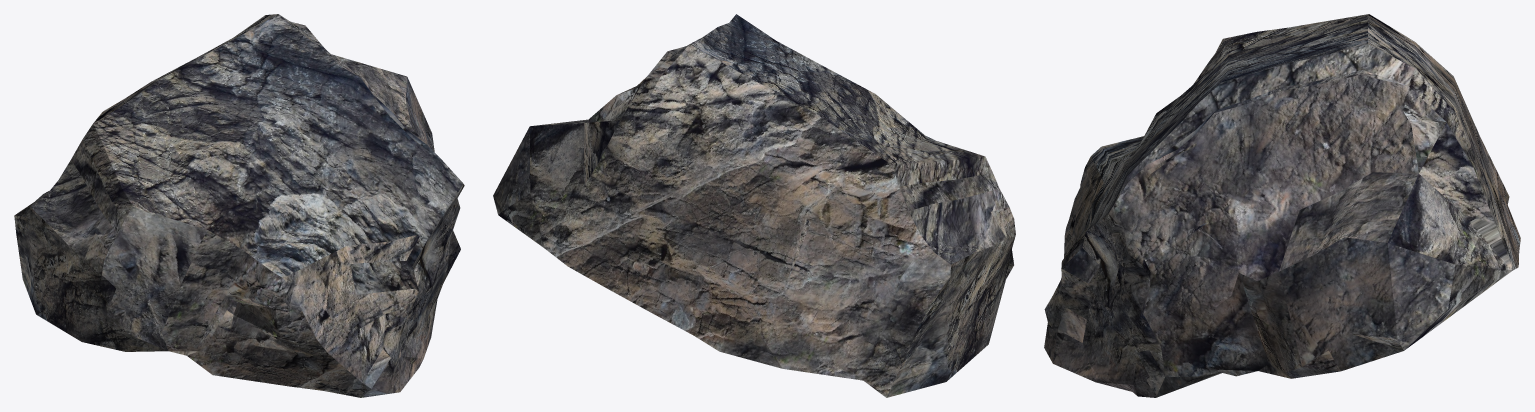
Rendered from Rock.fbx.
The picture shows the model from 3 angles, left to right: view 1: azimuth 30°, elevation 25°; view 2: azimuth 150°, elevation 25°; view 3: azimuth 270°, elevation 25°; orthographic projection. The views are drawn at different scales.
Visible parts, largest first — view 1: Rock; view 2: Rock; view 3: Rock.
Boxes of the visible parts, box(x1,y1,x2,y2) form: Rock: box(14, 14, 464, 397); Rock: box(493, 14, 1015, 397); Rock: box(1044, 14, 1520, 397).
Size of the model in its own units: 60.19 by 40.37 by 51.45.
